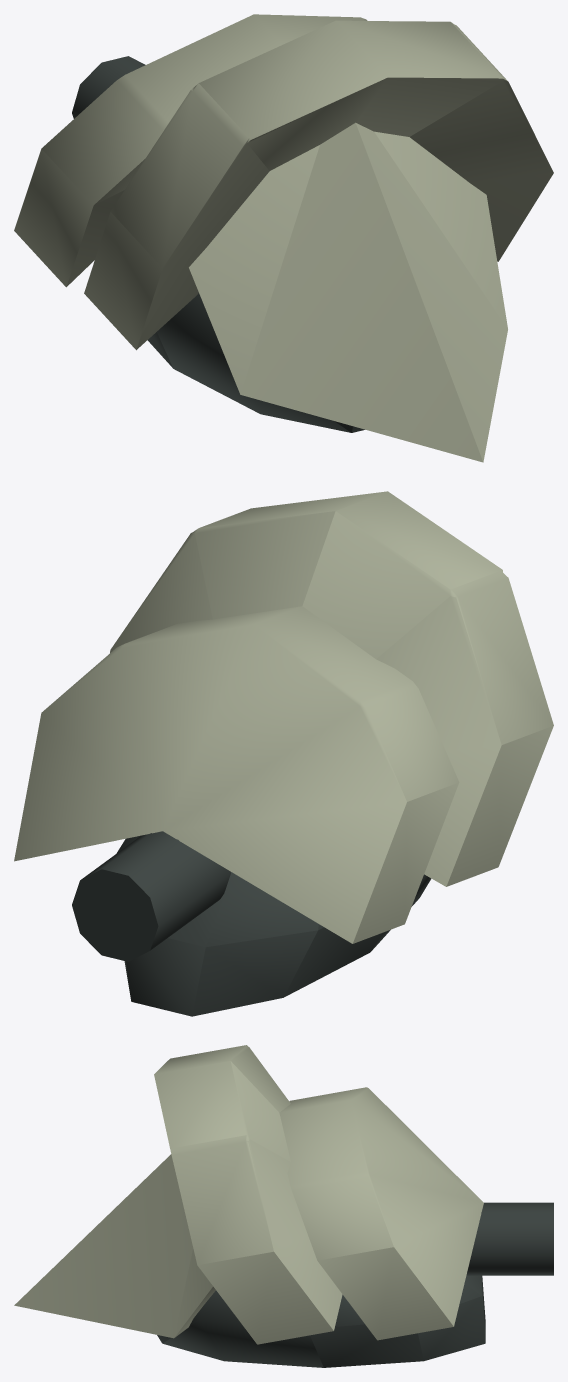
Rendered from termite.obj.
3 views of the same model, one above another, from view 1: azimuth 30°, elevation 25°; view 2: azimuth 150°, elevation 25°; view 3: azimuth 270°, elevation 25° (orthographic). The views are drawn at different scales.
Parts seen in each view (by area): view 1: rigid_shell_001, rigid_shell_002, rigid_shell_003, rigid_shell_000, rigid_shell_004; view 2: rigid_shell_003, rigid_shell_002, rigid_shell_000, rigid_shell_004; view 3: rigid_shell_003, rigid_shell_002, rigid_shell_001, rigid_shell_000, rigid_shell_004.
Part boxes in pixels (x1=…): rigid_shell_001: x1=189, y1=122, x2=507, y2=462; rigid_shell_002: x1=84, y1=20, x2=553, y2=350; rigid_shell_003: x1=14, y1=14, x2=367, y2=287; rigid_shell_000: x1=147, y1=293, x2=364, y2=432; rigid_shell_004: x1=72, y1=56, x2=145, y2=118; rigid_shell_003: x1=14, y1=606, x2=459, y2=943; rigid_shell_002: x1=110, y1=491, x2=553, y2=886; rigid_shell_000: x1=116, y1=835, x2=431, y2=1016; rigid_shell_004: x1=72, y1=831, x2=230, y2=961; rigid_shell_003: x1=279, y1=1087, x2=483, y2=1340; rigid_shell_002: x1=154, y1=1045, x2=342, y2=1344; rigid_shell_001: x1=14, y1=1154, x2=215, y2=1338; rigid_shell_000: x1=157, y1=1275, x2=485, y2=1367; rigid_shell_004: x1=466, y1=1202, x2=553, y2=1275.
Bounding box in the file's own units: 0.9936 × 0.9 × 1.62.
